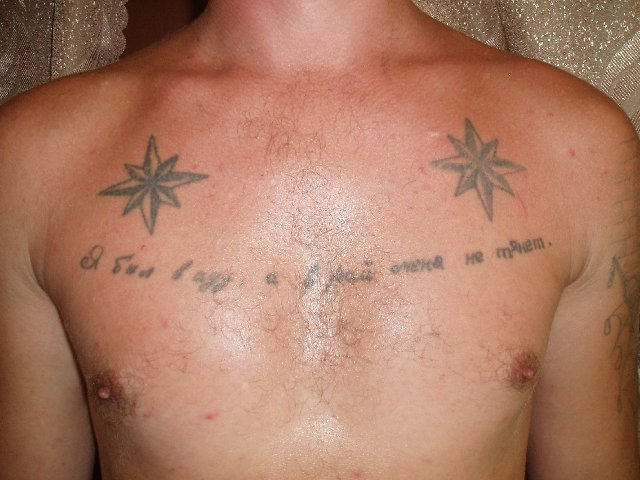tatu3_bukva: (70, 230, 555, 295)
tatu4_zvezda: (423, 112, 544, 230), (94, 133, 208, 242)
